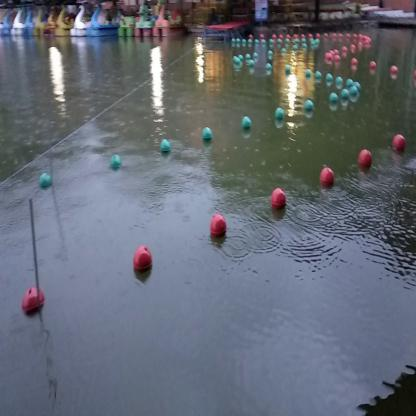green_buoy: (40, 174, 51, 188), (202, 128, 212, 140), (305, 99, 313, 113), (112, 155, 120, 169), (160, 142, 169, 154), (242, 117, 250, 130), (330, 92, 337, 106), (276, 107, 284, 118), (342, 88, 348, 102)
red_buoy: (22, 286, 44, 314), (134, 246, 152, 274), (269, 188, 288, 212), (210, 215, 227, 237), (357, 150, 373, 170), (320, 170, 334, 187), (394, 134, 404, 150)
